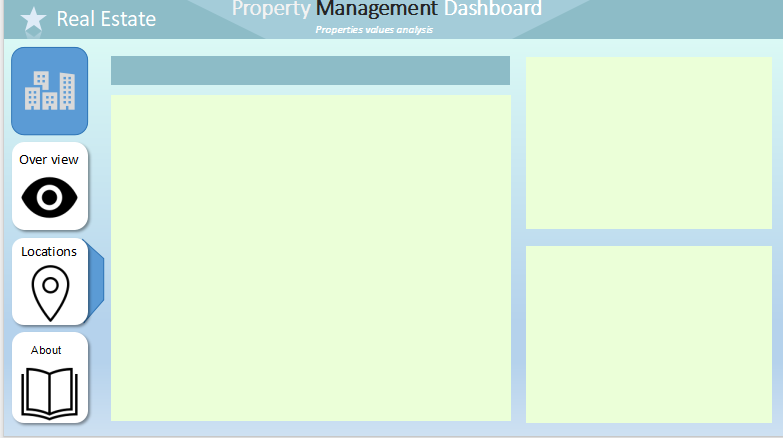

What the dashboard file says about the page in this screenshot:
{"tool":"powerbi","page":{"name":"Locations","canvas":[1280,720],"ordinal":1},"visuals":[{"type":"textbox","box":[272,96,512,48],"z":0},{"type":"map","fields":{"Category":["Dim Location.Property location"],"Size":["Measure Table.Total properties"]},"box":[176,160,656,528],"z":1000},{"type":"tableEx","fields":{"Values":["Dim Location.Property location","Measure Table.Total properties","Measure Table.Very good","Measure Table.Good","Measure Table.Bad"]},"box":[864,144,384,240],"z":2000},{"type":"tableEx","fields":{"Values":["Dim Floors.Floors","Measure Table.Very good","Measure Table.Good","Measure Table.Bad","Measure Table.Total properties"]},"box":[864,448,400,240],"z":3000},{"type":"textbox","box":[848,96,400,34],"z":4000},{"type":"textbox","box":[848,400,400,48],"z":5000}]}

Visuals, with their boxes in screenshot pixels (x1, y1, x2, y2), scaled from the page's 1280x720 canvas onto the 783x438 screenshot:
textbox: bbox=(166, 58, 480, 88)
map - Dim Location.Property location x Measure Table.Total properties: bbox=(108, 97, 509, 419)
tableEx - Dim Location.Property location x Measure Table.Total properties: bbox=(529, 88, 763, 234)
tableEx - Dim Floors.Floors x Measure Table.Very good: bbox=(529, 273, 773, 419)
textbox: bbox=(519, 58, 763, 79)
textbox: bbox=(519, 243, 763, 273)
